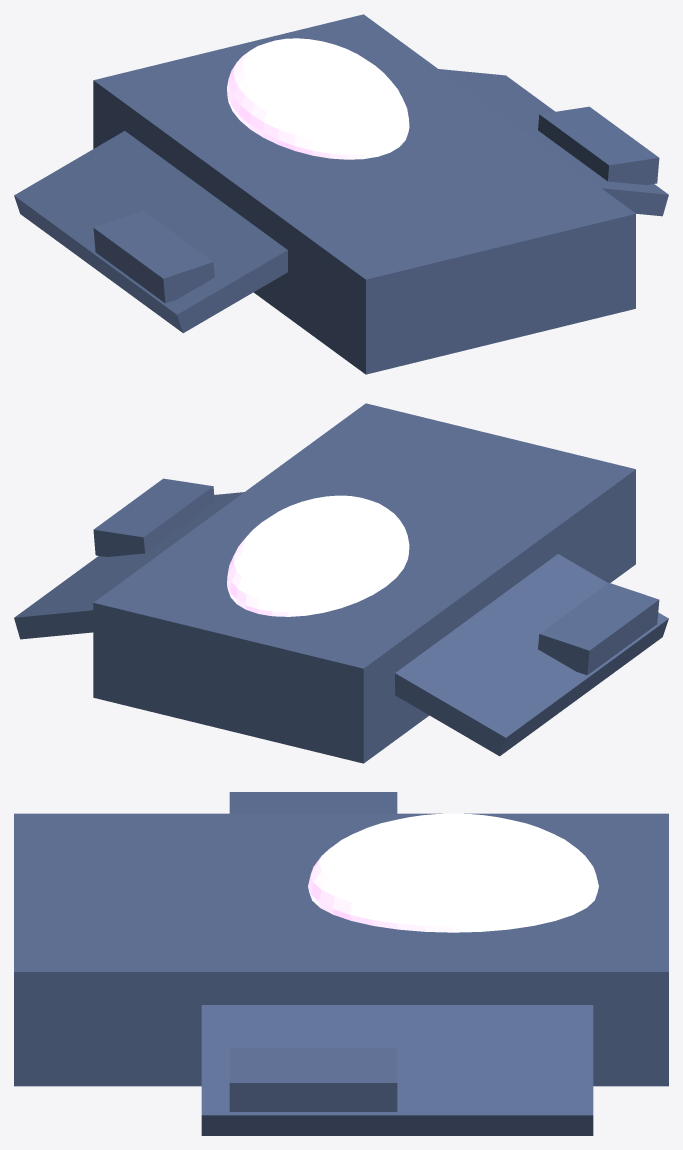
The model's file is astra_t2.glb.
3 renders of one model, top to bottom at view 1: azimuth 30°, elevation 25°; view 2: azimuth 150°, elevation 25°; view 3: azimuth 270°, elevation 25°, orthographic. The views are drawn at different scales.
Parts seen in each view (by area): view 1: Cube, Cube.002, Sphere, Cube.005, Cube.004, Cube.001; view 2: Cube, Cube.002, Sphere, Cube.005, Cube.001, Cube.004; view 3: Cube, Cube.001, Sphere, Cube.004, Cube.005.
Boxes of the visible parts, bbox=[...] form: Cube: bbox=[93, 14, 635, 374]; Cube.002: bbox=[14, 131, 287, 333]; Sphere: bbox=[227, 38, 409, 159]; Cube.005: bbox=[93, 211, 214, 303]; Cube.004: bbox=[538, 106, 659, 184]; Cube.001: bbox=[439, 69, 668, 216]; Cube: bbox=[93, 403, 635, 763]; Cube.002: bbox=[395, 554, 668, 756]; Sphere: bbox=[227, 495, 409, 616]; Cube.005: bbox=[538, 583, 659, 675]; Cube.001: bbox=[14, 492, 244, 639]; Cube.004: bbox=[93, 478, 214, 556]; Cube: bbox=[14, 813, 668, 1086]; Cube.001: bbox=[201, 1005, 593, 1135]; Sphere: bbox=[308, 813, 598, 932]; Cube.004: bbox=[229, 1048, 397, 1111]; Cube.005: bbox=[229, 792, 397, 813].
Size of the model in its own units: 2.46 by 0.715 by 2.34.
